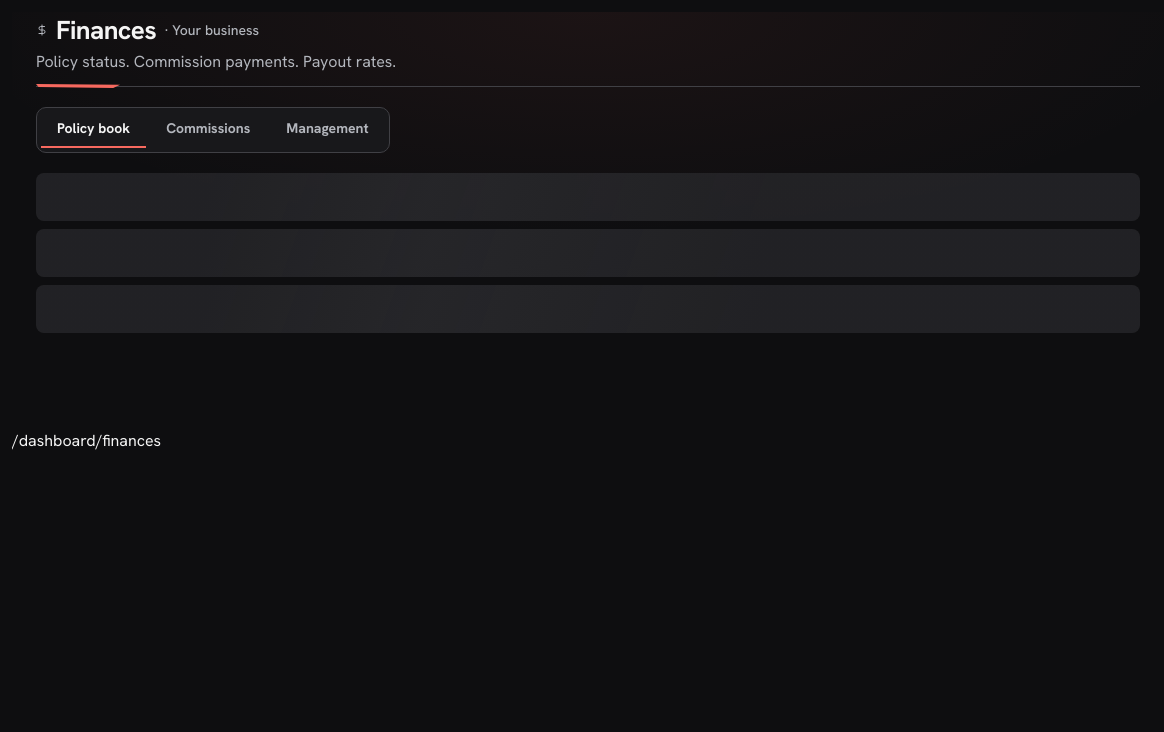
Test: unified Finances permissions › reports malformed management financial payload as unavailable rather than fake zeros
Press the mouse on the tab "Management": (327, 130) [270,112,385,148]
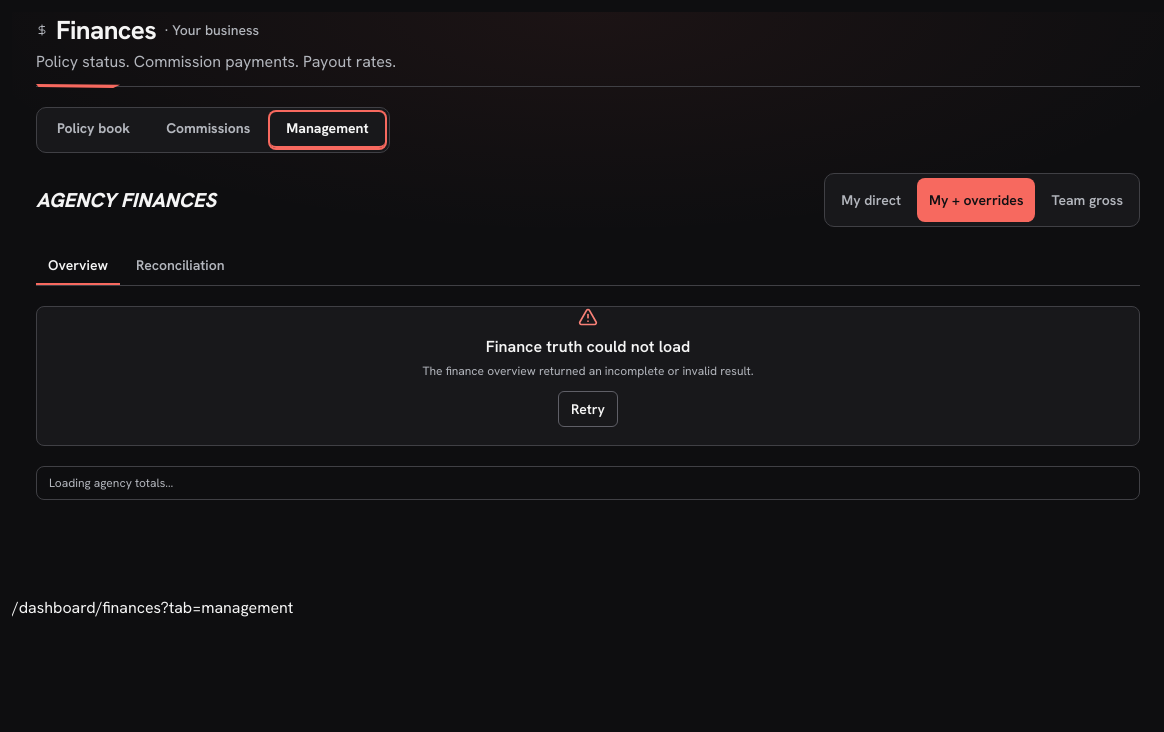
Now the text "Finance truth could not load" is shown, box [486,336,690,356]
